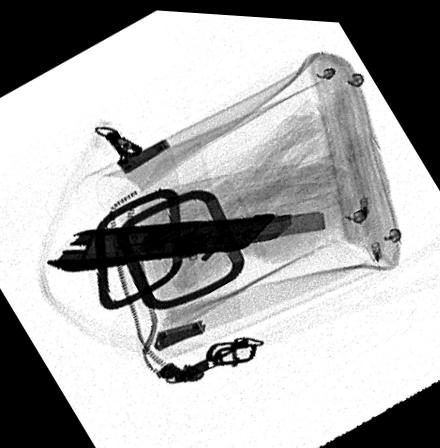Knife: (45, 205, 327, 271)
